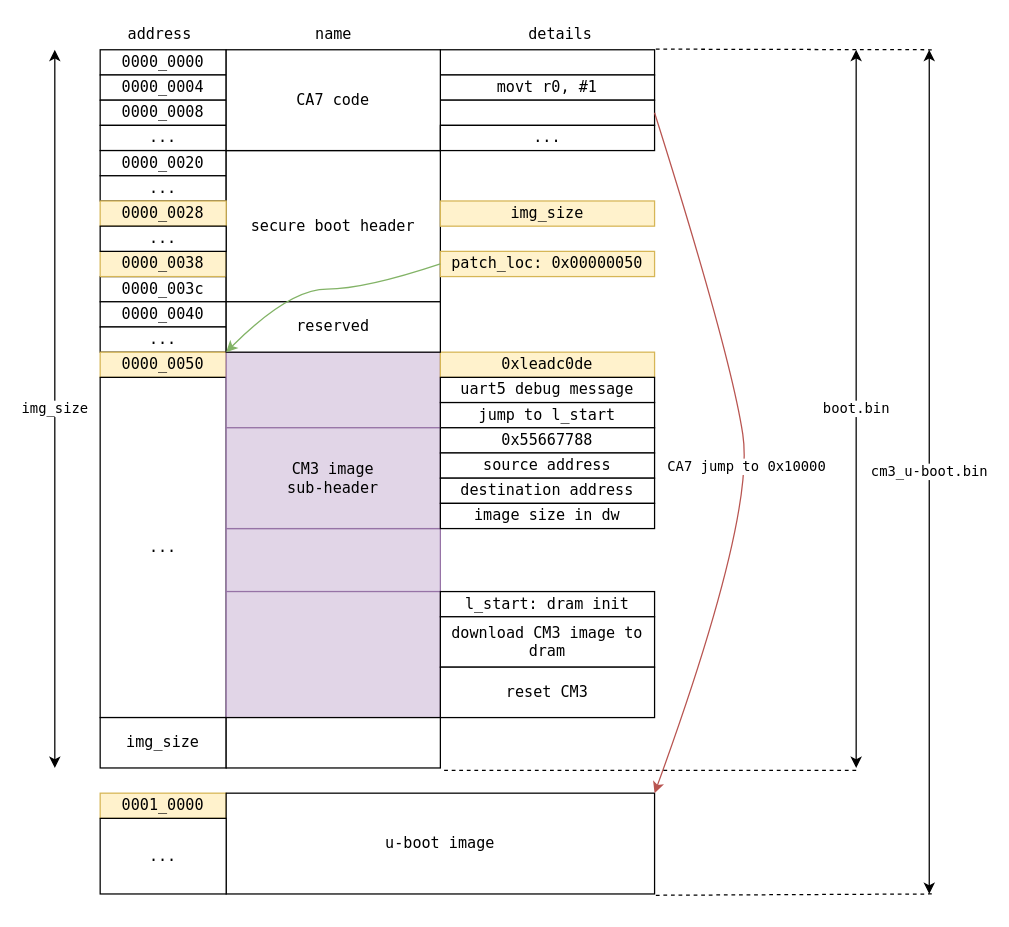
Image size: 1009x927. Some labels were removed from this diagram. The shapes that lost their labels are listed below. From the top down, each one's centre as x and y in pixels, then its label:
point 547,62: movw r0, #0
point 547,112: mov pc, r0
point 332,389: header
point 332,559: CM3 image
point 332,654: opcode
point 332,742: signature
